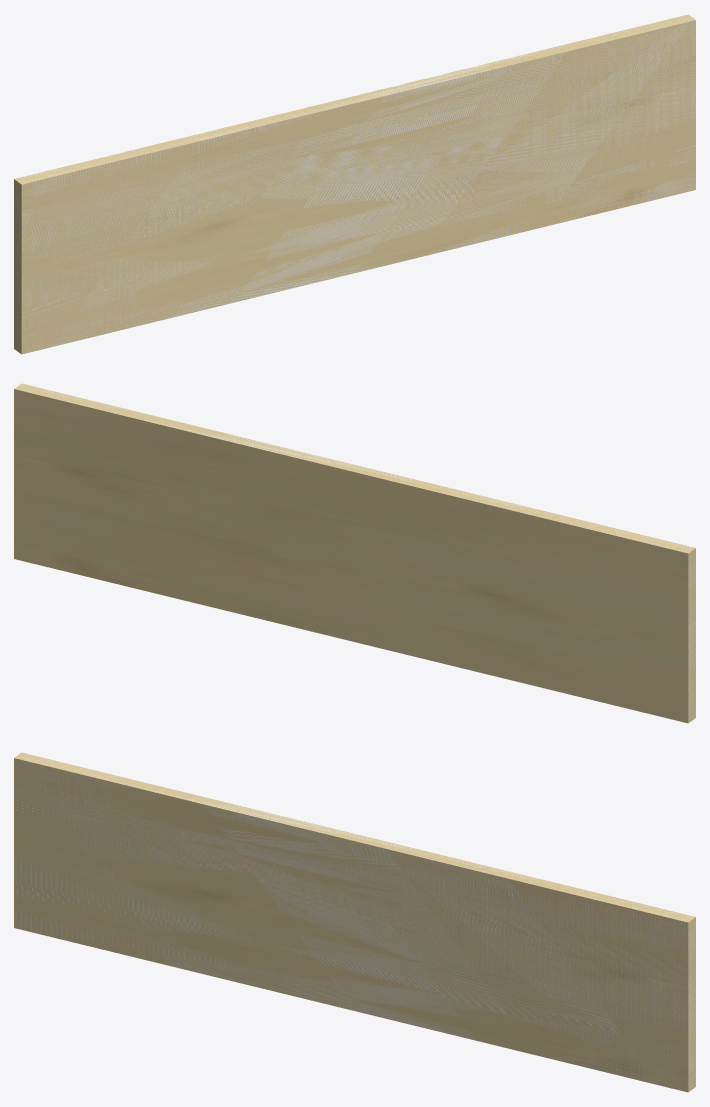
Rendered from original-4.obj.
3 views of the same model, one above another, from view 1: azimuth 30°, elevation 25°; view 2: azimuth 150°, elevation 25°; view 3: azimuth 330°, elevation 25° (orthographic).
Parts seen in each view (by area): view 1: Group5/mesh5/mesh5-geometry#mesh5-geometry; view 2: Group5/mesh5/mesh5-geometry#mesh5-geometry; view 3: Group5/mesh5/mesh5-geometry#mesh5-geometry.
Boxes of the visible parts, <box> form: Group5/mesh5/mesh5-geometry#mesh5-geometry: <box>14,14,695,354</box>; Group5/mesh5/mesh5-geometry#mesh5-geometry: <box>14,383,695,723</box>; Group5/mesh5/mesh5-geometry#mesh5-geometry: <box>14,752,695,1092</box>.
Size of the model in its own units: 0.8965 by 0.2159 by 0.0176.
